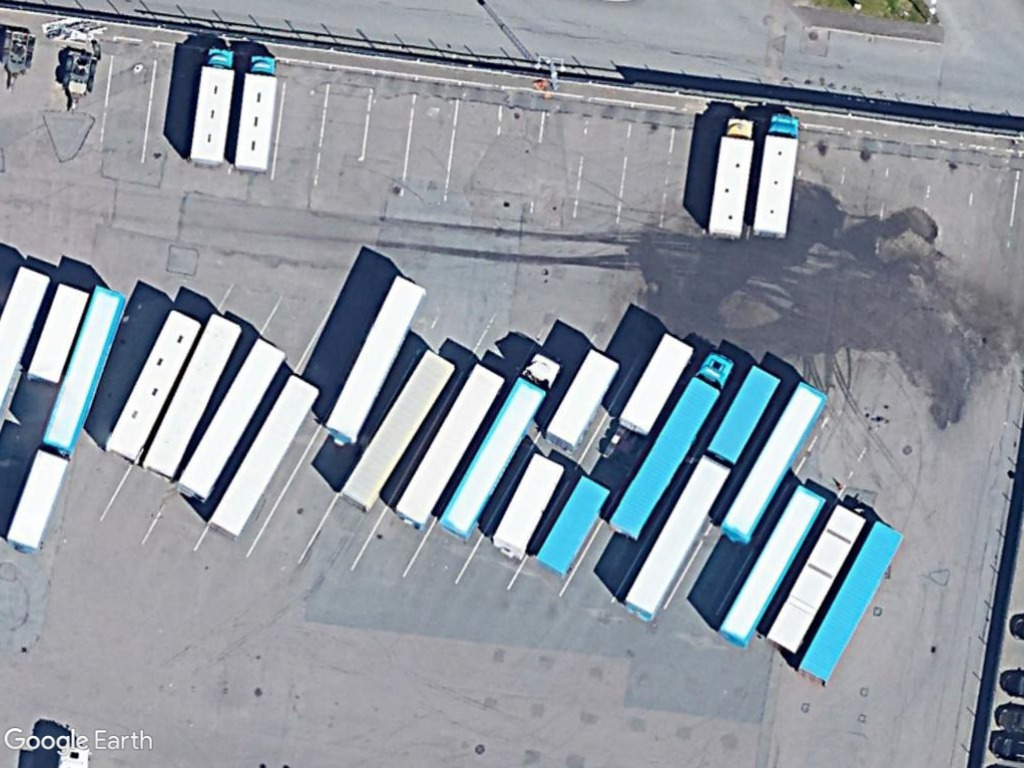truck: (590, 343, 737, 544), (427, 348, 569, 548), (745, 104, 806, 245), (705, 107, 764, 243), (226, 48, 282, 180), (185, 47, 239, 170)
